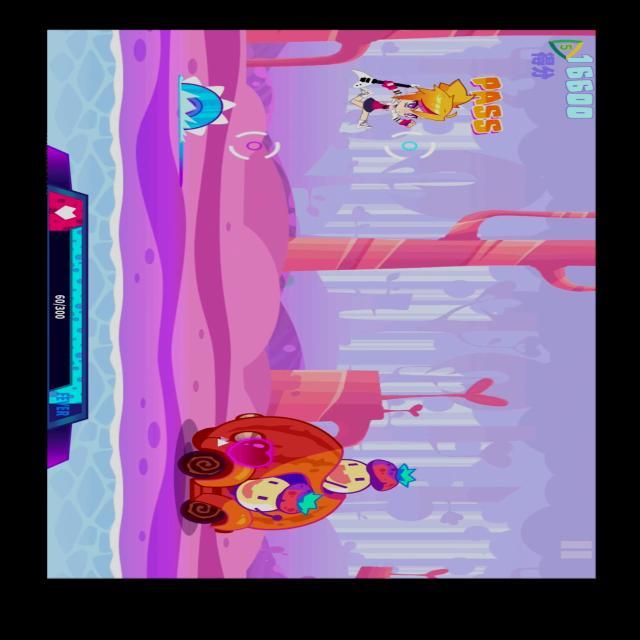ci: (173, 74, 239, 144)
xin: (221, 438, 281, 470)
